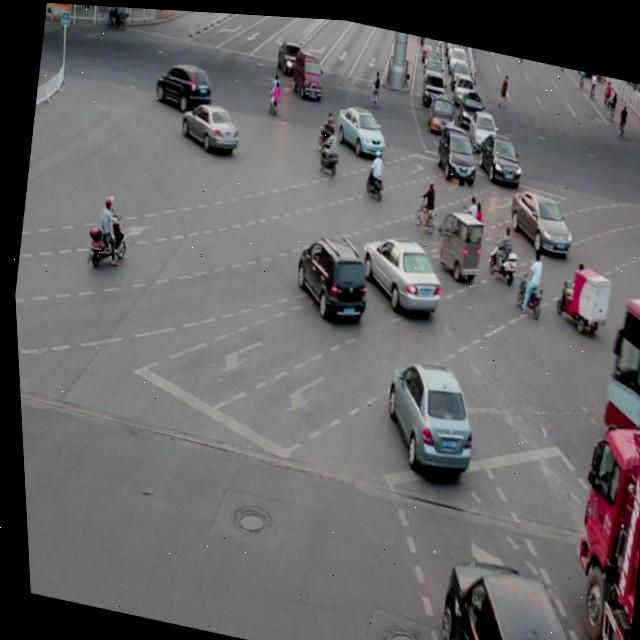bus: (542, 405, 640, 640)
car: (420, 541, 588, 640), (373, 347, 479, 475), (351, 220, 446, 314), (286, 223, 373, 322), (502, 178, 576, 254), (176, 93, 243, 156), (150, 54, 216, 114), (431, 116, 480, 180)
van: (586, 278, 640, 458)
